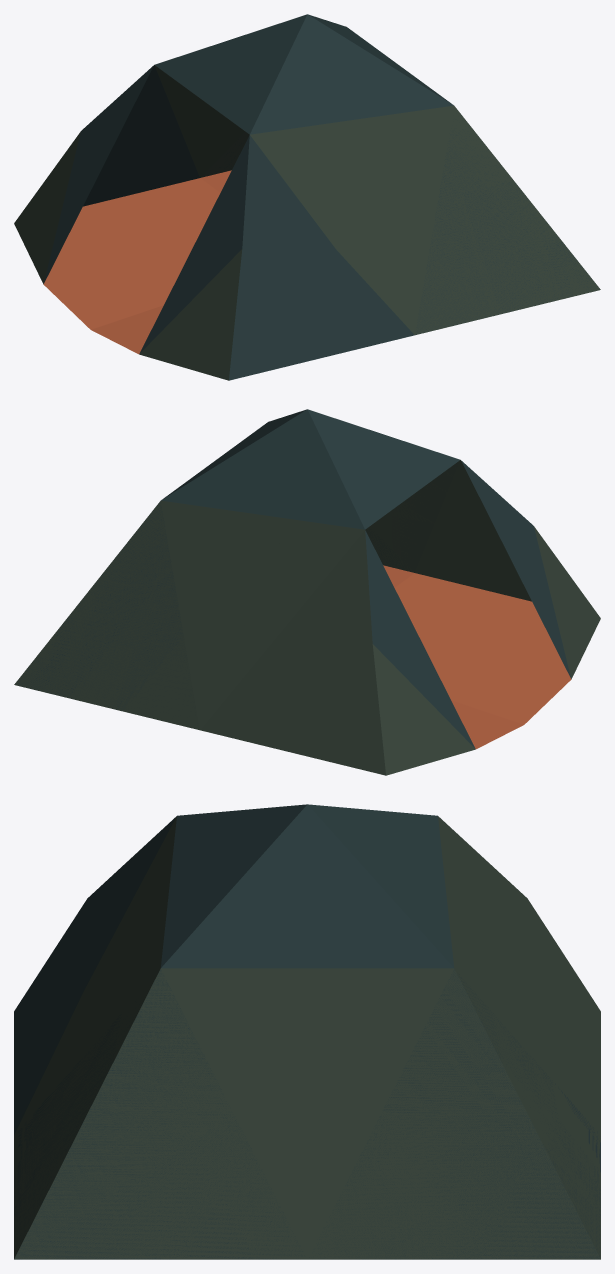
The model's file is Tent.fbx.
3 renders of one model, top to bottom at view 1: azimuth 30°, elevation 25°; view 2: azimuth 150°, elevation 25°; view 3: azimuth 270°, elevation 25°, orthographic. The views are drawn at different scales.
Visible parts, largest first — view 1: Tent; view 2: Tent; view 3: Tent.
Part boxes in pixels (x1,y1,x2,y2): Tent: (14, 14, 600, 380); Tent: (14, 409, 600, 775); Tent: (14, 804, 600, 1259).
Size of the model in its own units: 74.41 by 46.36 by 68.72.
